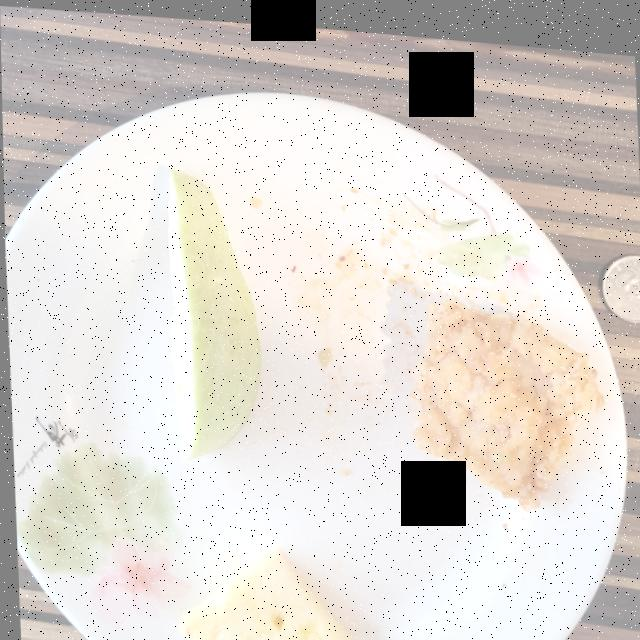coin: (600, 243, 640, 310)
fried chicken cutlet: (407, 290, 602, 500)
guava -sliced-: (165, 166, 258, 455)
pineapple: (176, 543, 353, 640)
